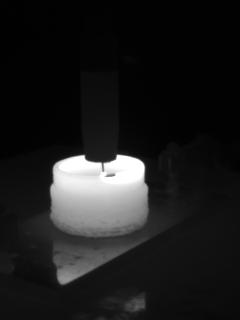tip_wire_left: (85, 158, 105, 176)
tip_wire_right: (101, 158, 117, 176)
